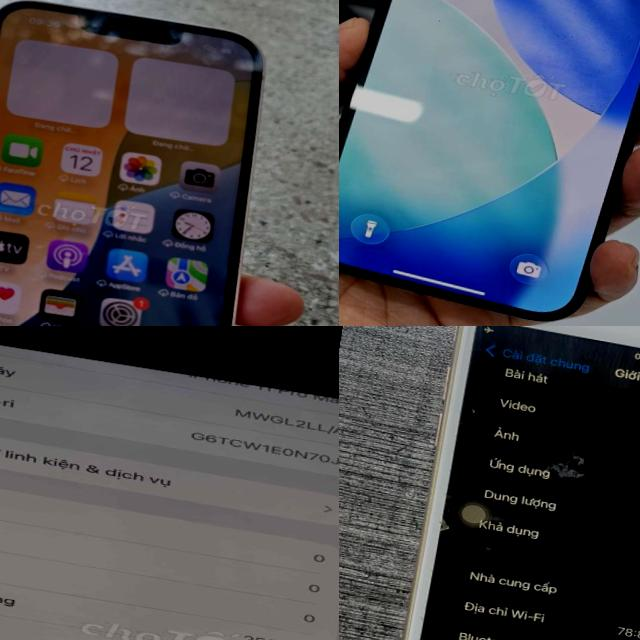physical_damage: (470, 517, 631, 639), (423, 503, 471, 547)
scratch: (532, 442, 608, 496)
